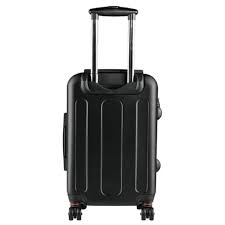suitcase: (58, 5, 165, 222)
